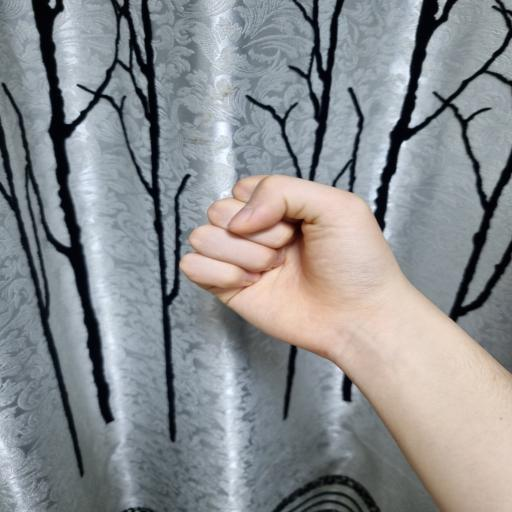Rock: (181, 172, 444, 378)
